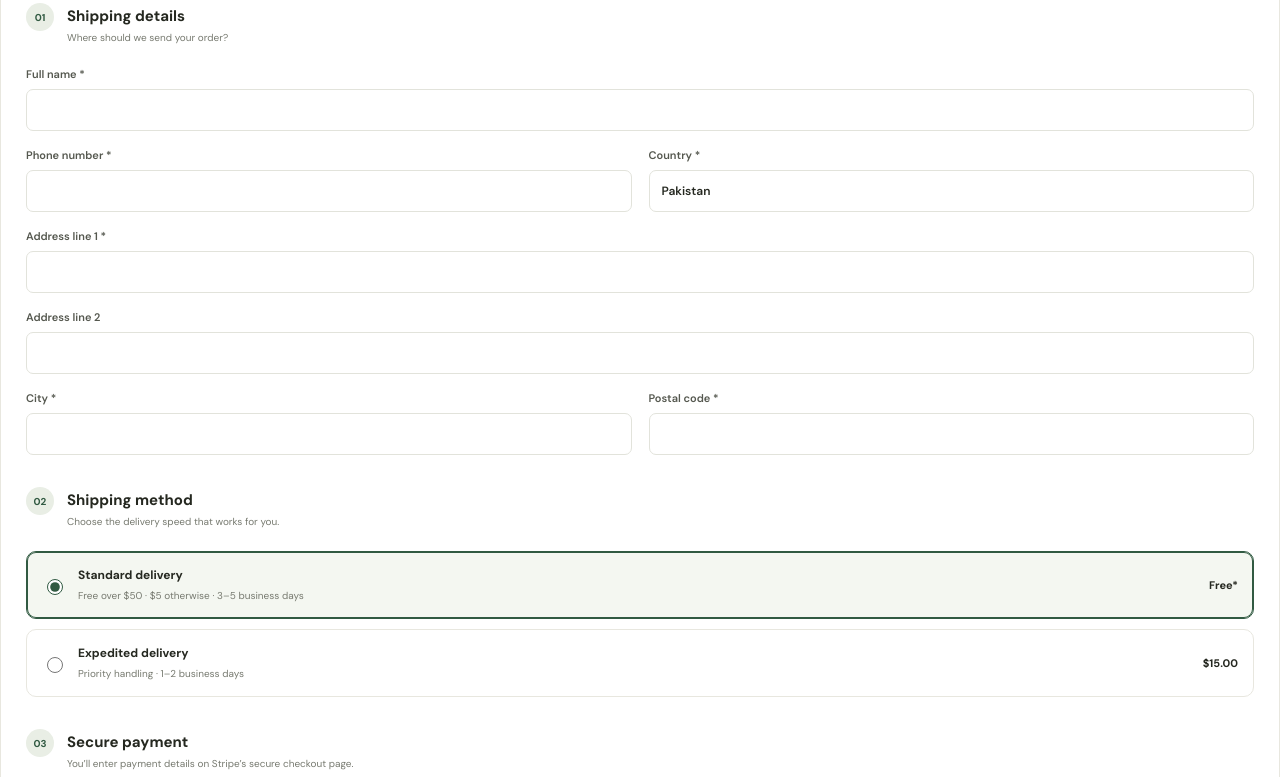
CheckoutForm › shows a useful fallback if the checkout request itself fails
This screenshot has width=1280, height=777.
Type "Taylor Customer" into the field labelled "Full name *" at (640, 110), box [26,89,1254,131]
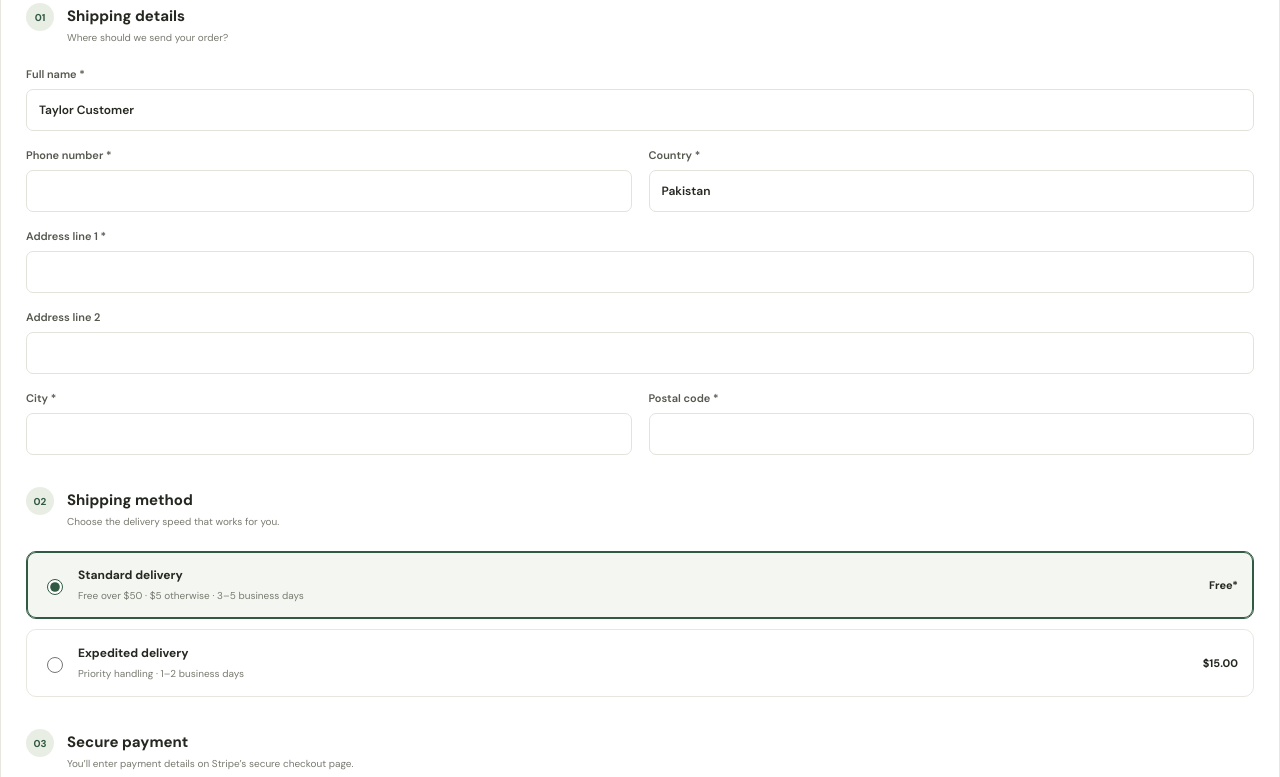
Type "5551234567" into the field labelled "Phone number *" at (329, 191), box [26,170,632,212]
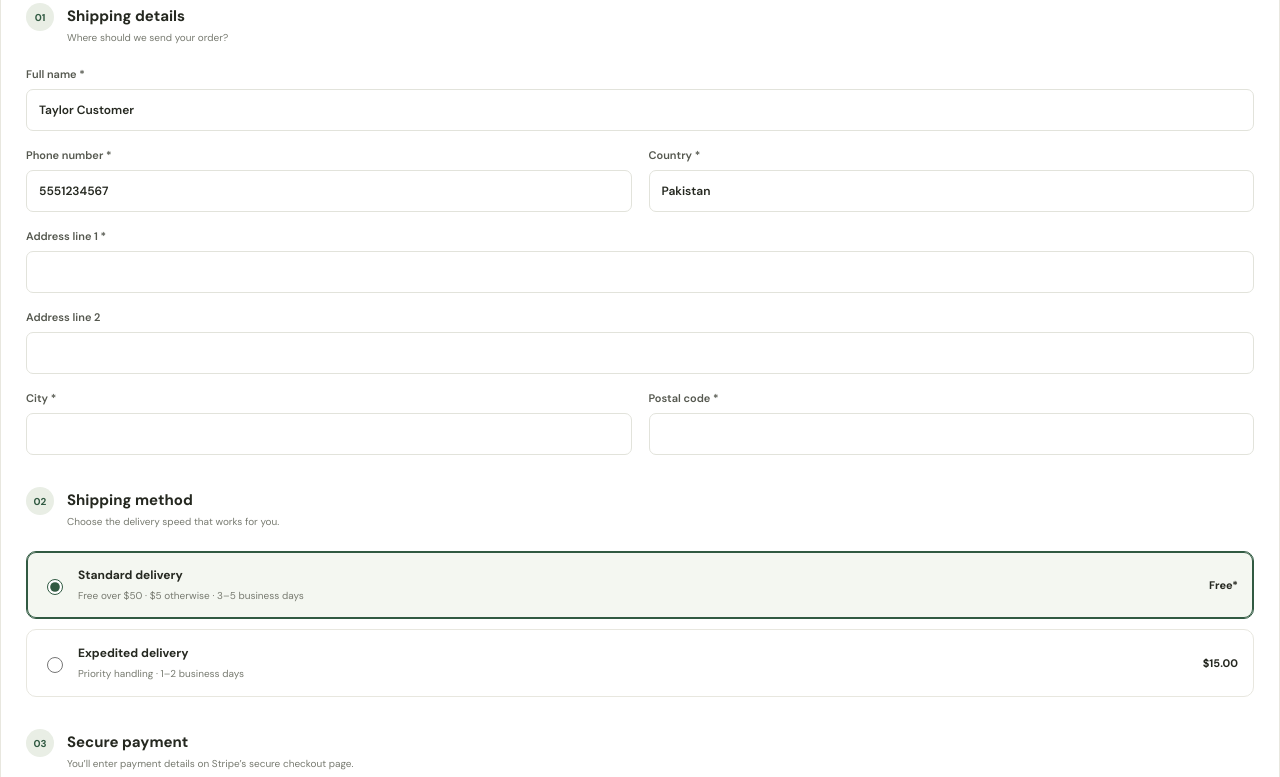
Type "12 Market Street" into the field labelled "Address line 1 *" at (640, 272), box [26,251,1254,293]
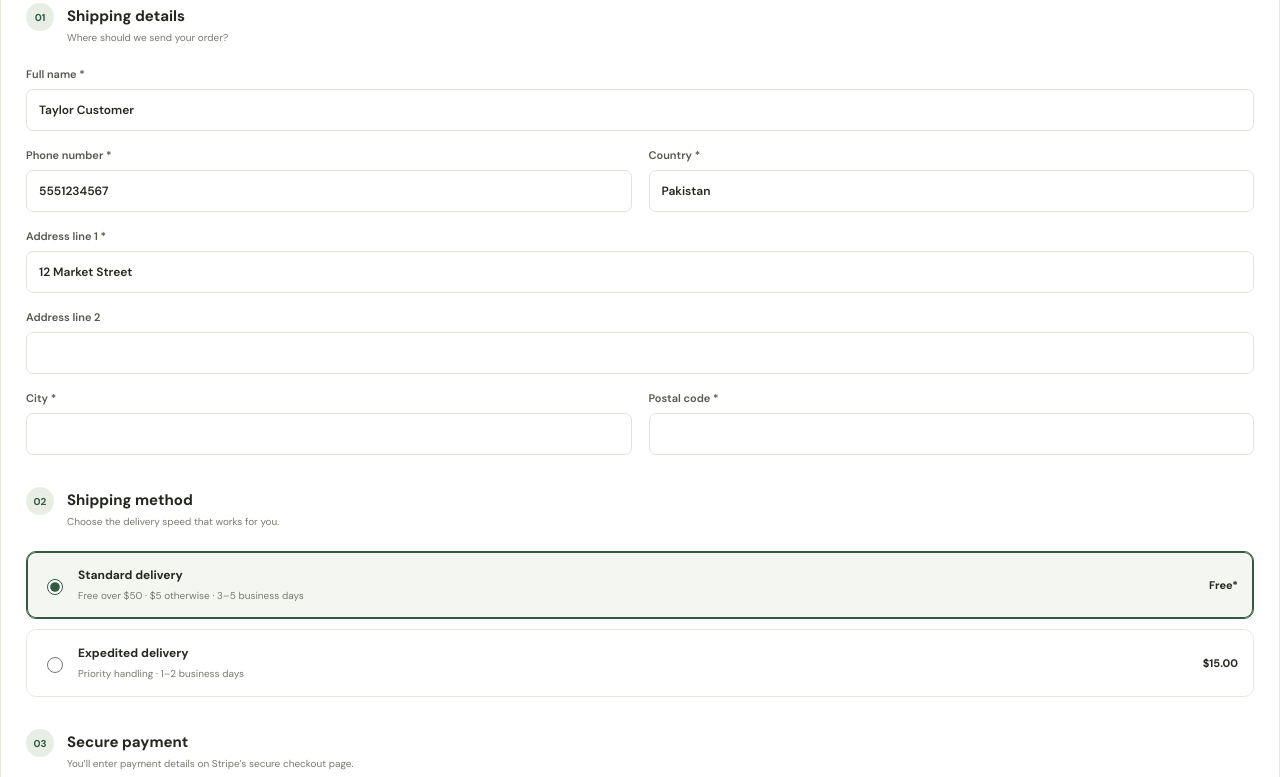
Type "Lahore" into the field labelled "City *" at (329, 434), box [26,413,632,455]
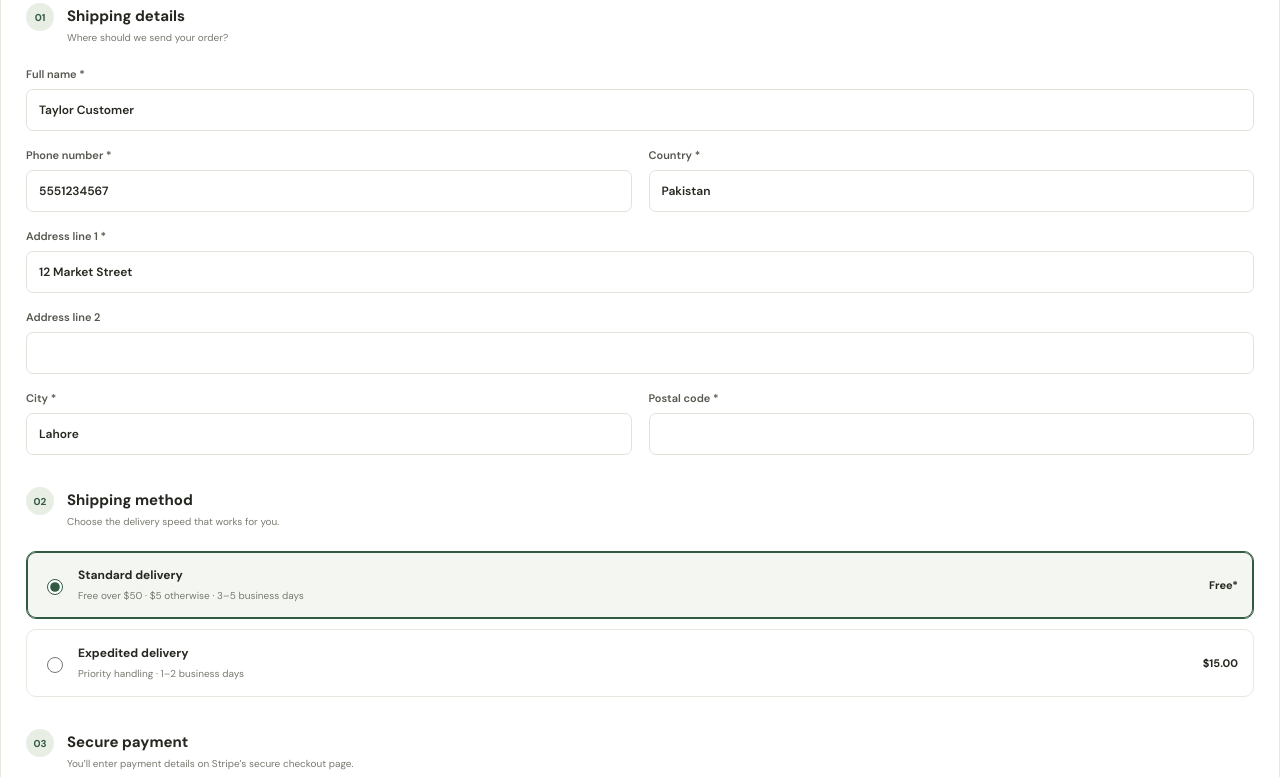
Type "54000" into the field labelled "Postal code *" at (951, 434), box [648,413,1254,455]
(page scrolled)
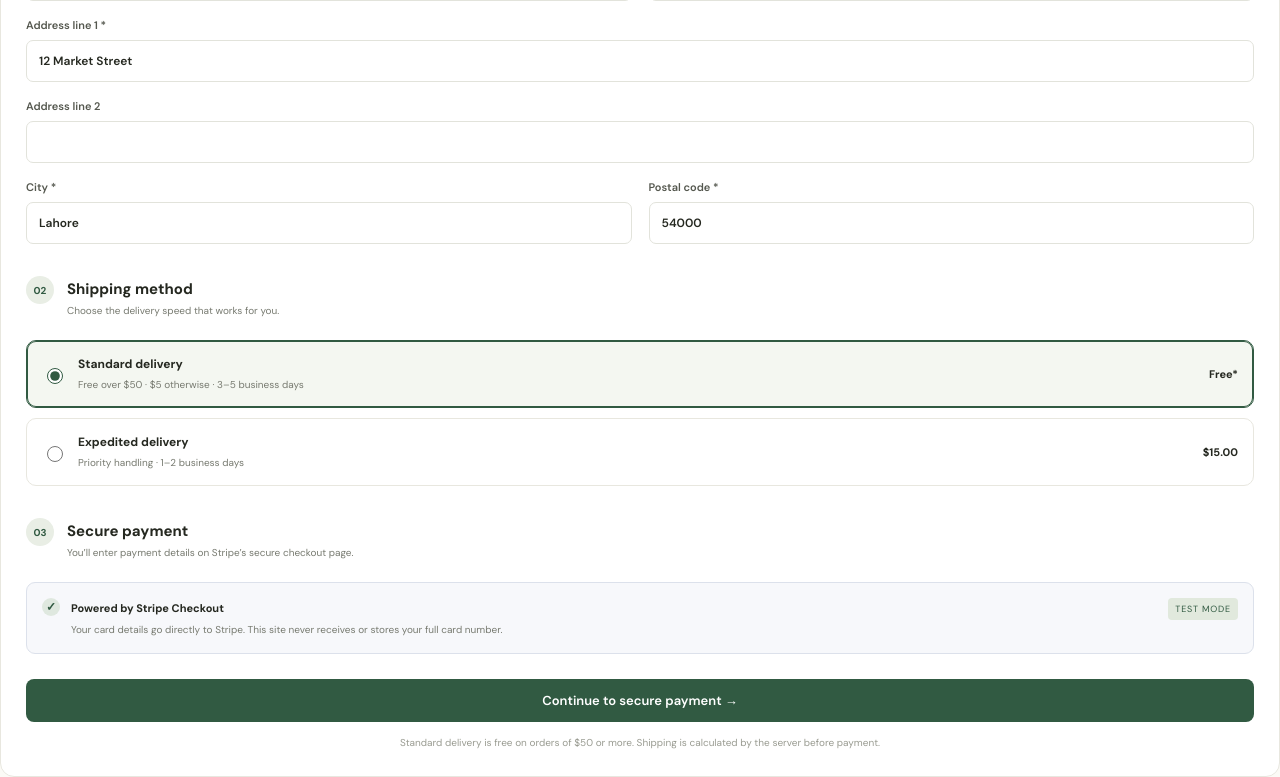
Click the button "Continue to secure payment →" at (640, 700), box [26,679,1254,722]
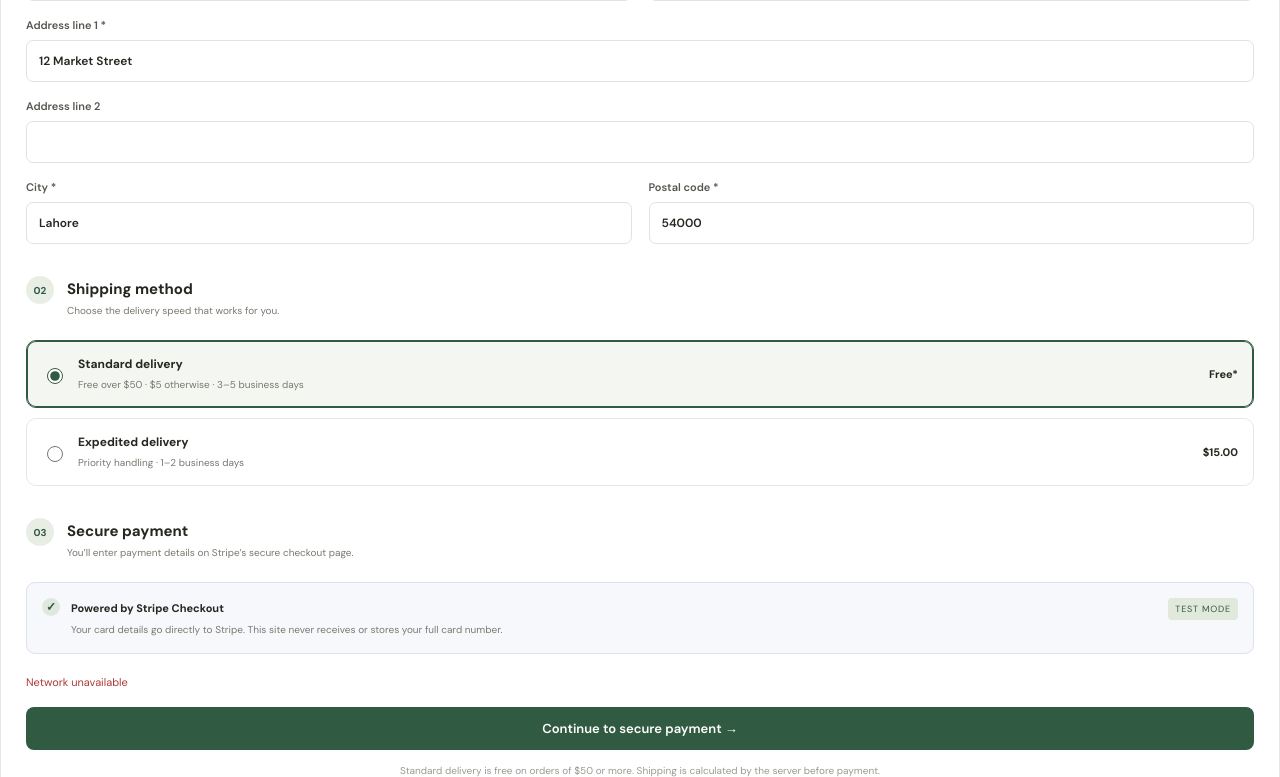
Check: the button "Continue to secure payment →" is enabled, box [26,706,1254,750]
Check: the message reads "Network unavailable", box [26,675,128,689]
